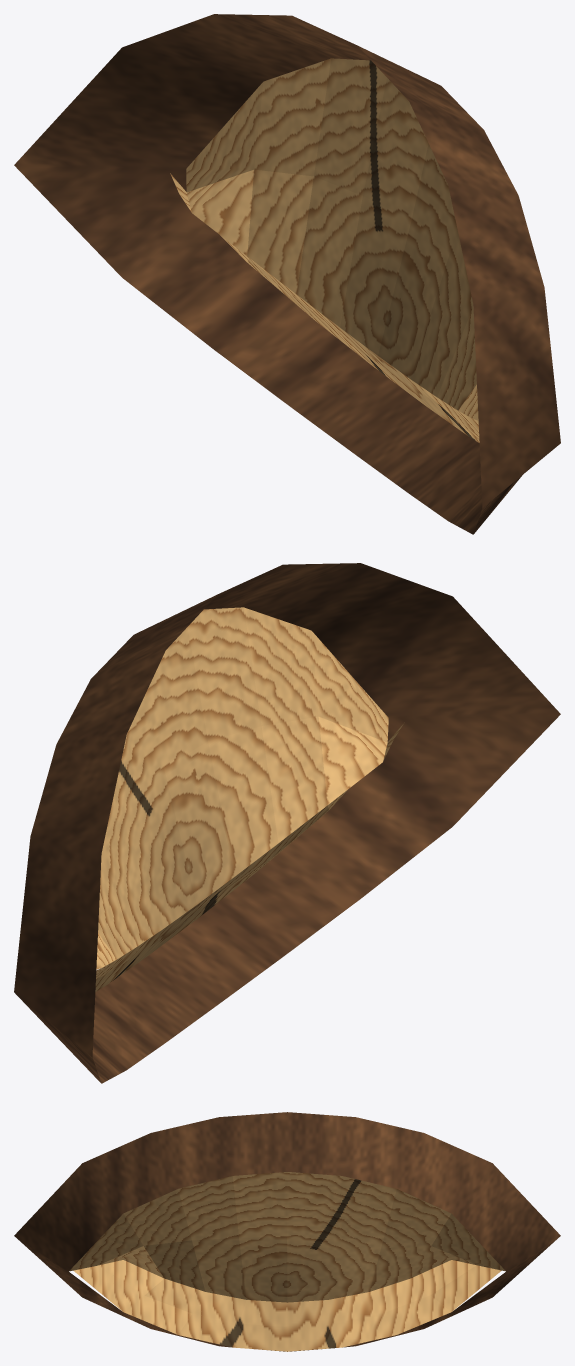
The model's file is cut2.glb.
3 renders of one model, top to bottom at view 1: azimuth 30°, elevation 25°; view 2: azimuth 150°, elevation 25°; view 3: azimuth 270°, elevation 25°, orthographic. The views are drawn at different scales.
Visible parts, largest first — view 1: cut_wedge_2; view 2: cut_wedge_2; view 3: cut_wedge_2.
Boxes of the visible parts, left/top/right/bottom form: cut_wedge_2: left=14, top=14, right=560, bottom=534; cut_wedge_2: left=14, top=563, right=560, bottom=1083; cut_wedge_2: left=14, top=1112, right=560, bottom=1351.
Size of the model in its own units: 0.238 by 0.4836 by 1.
Materials: 2 (2 with a texture image).
